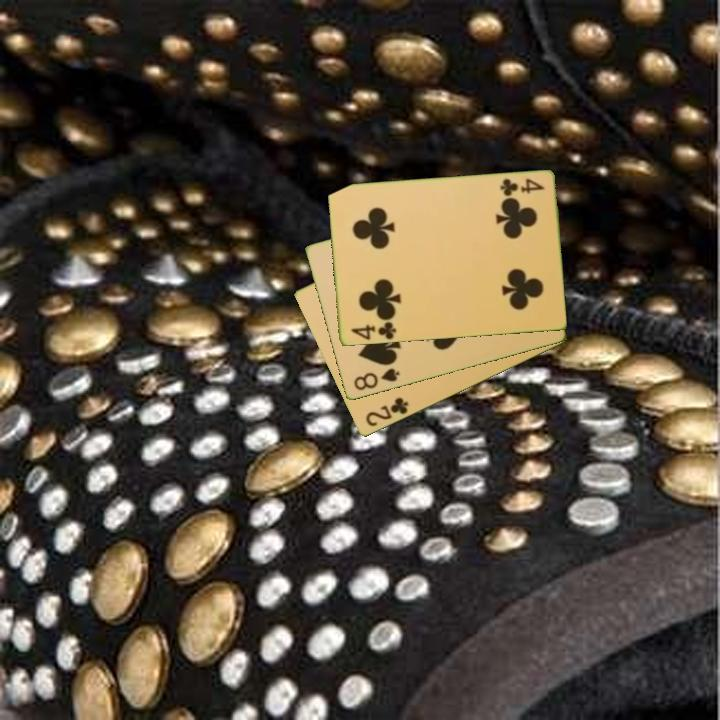2c: (362, 394, 411, 430)
4c: (347, 316, 399, 343), (497, 175, 547, 199)
8s: (350, 365, 402, 394)
